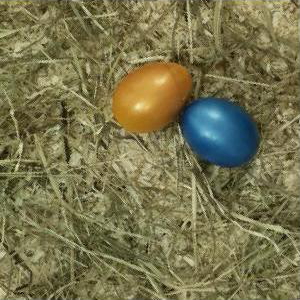egg: (111, 63, 192, 133), (183, 99, 260, 167)
